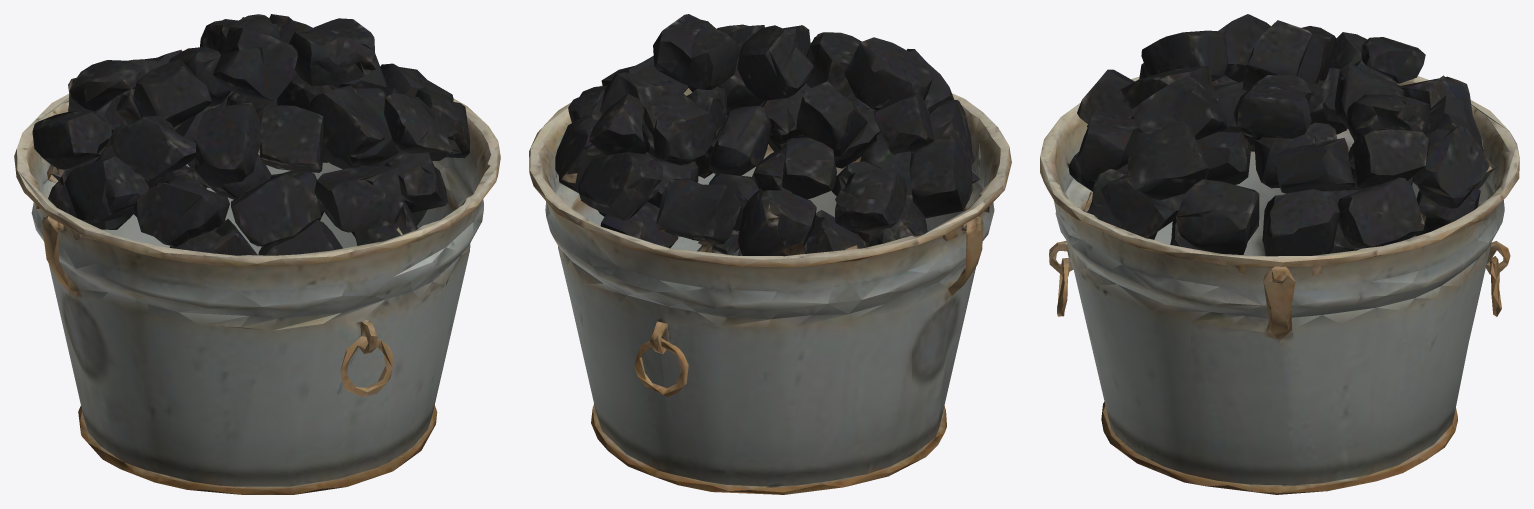
File: coal_bucket_zinc.glb
The picture shows the model from 3 angles, left to right: view 1: azimuth 30°, elevation 25°; view 2: azimuth 150°, elevation 25°; view 3: azimuth 270°, elevation 25°; orthographic projection.
Parts seen in each view (by area): view 1: main; view 2: main; view 3: main.
Part boxes in pixels (x1,y1,x2,y2): main: (14, 14, 500, 494); main: (529, 14, 1011, 494); main: (1040, 14, 1519, 494).
Bounding box in the file's own units: 0.4282 × 0.3799 × 0.4209.
Materials: 1 (1 with a texture image).
